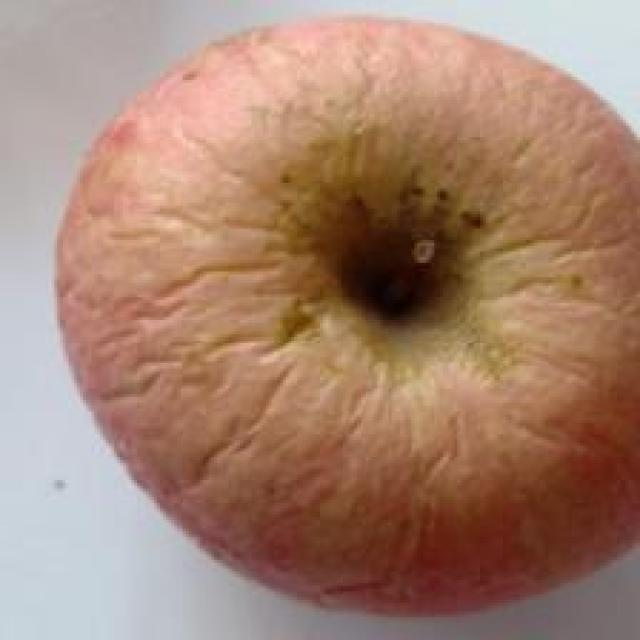rotten apple: (34, 8, 640, 640)
